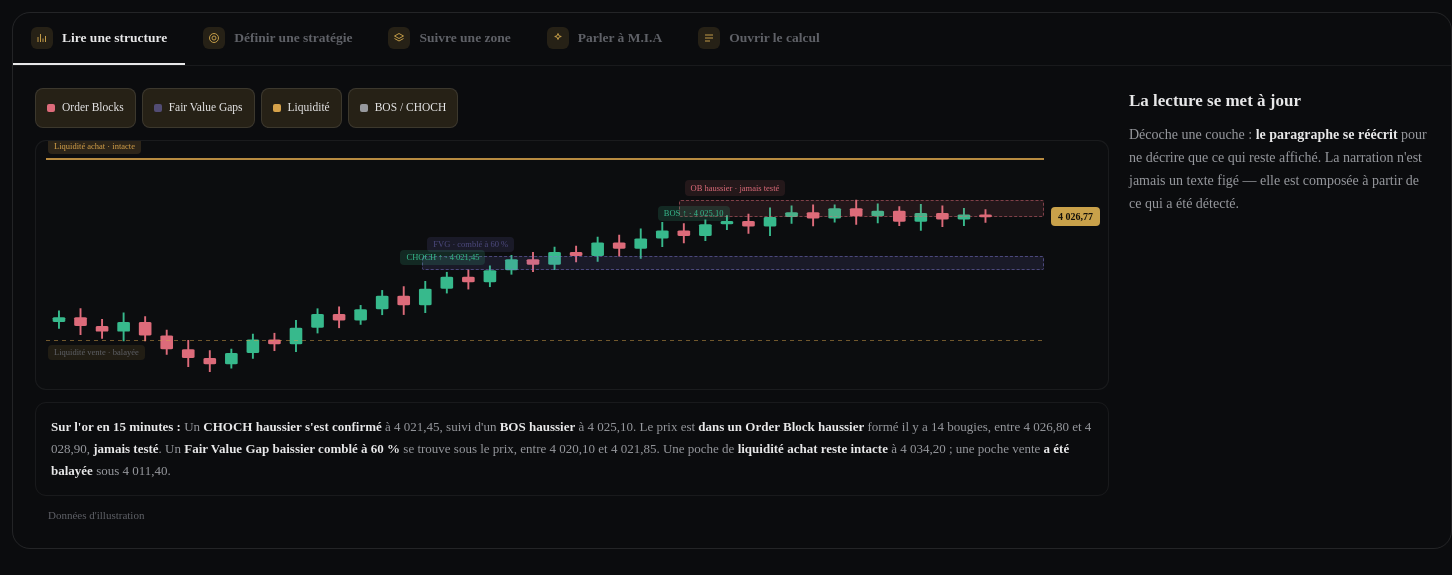
Test: LP-1 home — the M.I.A tab talks to the real agent › a reached quota is stated plainly and closes the composer
Step 1. Click the tab "Parler à M.I.A" → (605, 39), box 529,13 -> 680,65
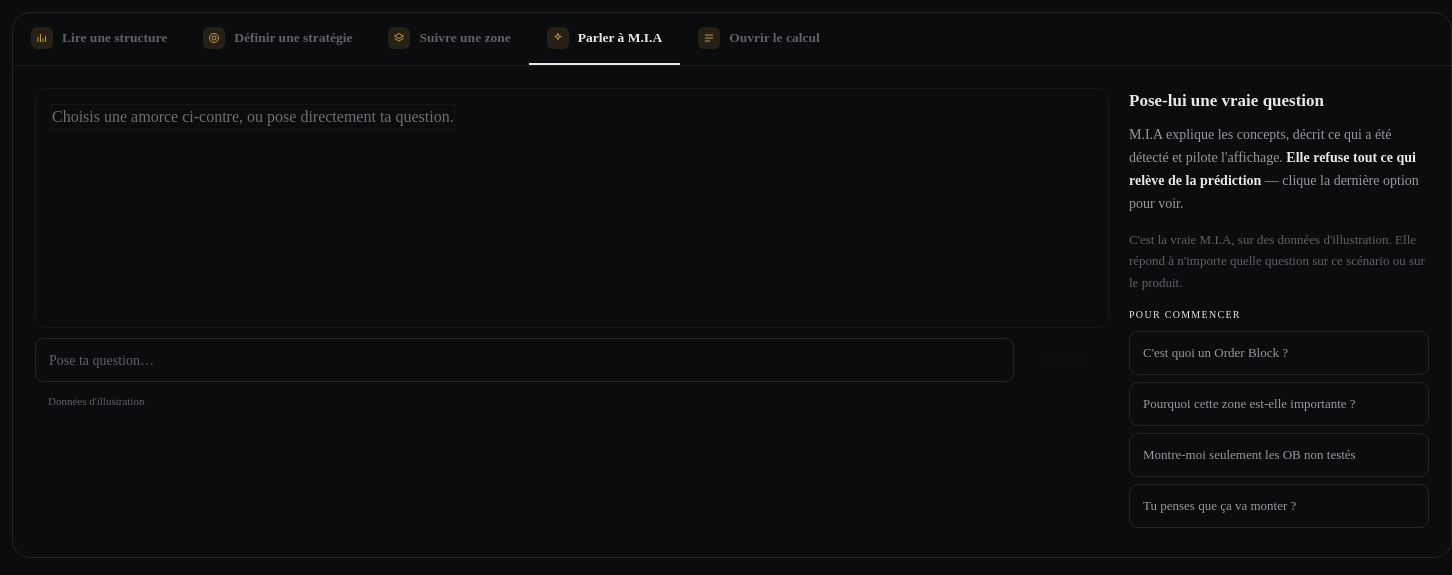
Step 2. Click the button "C'est quoi un Order Block ?" → (1279, 353), box 1129,331 -> 1429,375
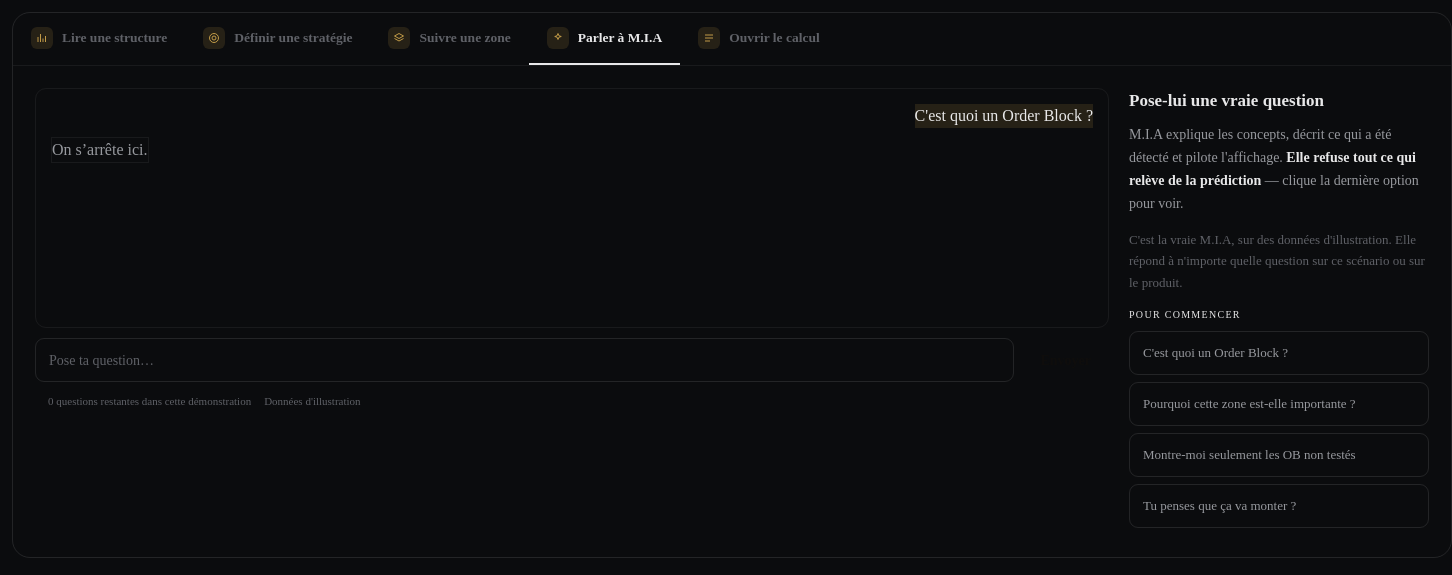
Result: the text "On s’arrête ici." is shown at 51,137 -> 148,163
